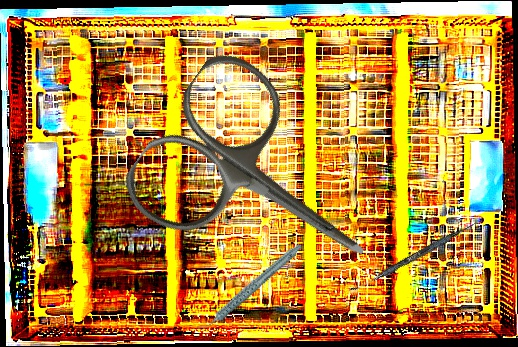Handpiece: (183, 242, 316, 332)
Iris Scissors: (112, 40, 416, 332)
Spatula Surgical: (349, 217, 479, 297)
